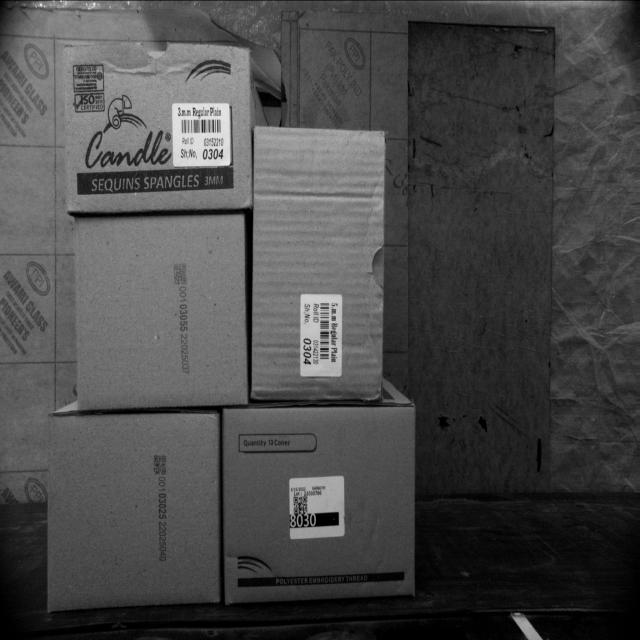cardboxes: (223, 403, 419, 607), (250, 127, 387, 401), (75, 212, 248, 408), (48, 414, 220, 606), (65, 41, 251, 209)
